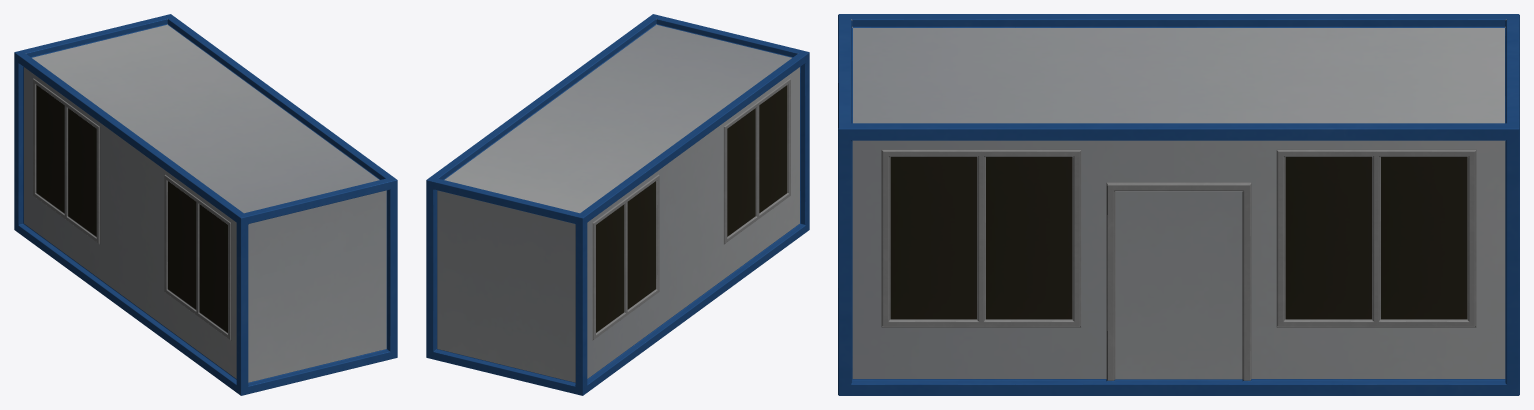
The model's file is hut.glb.
The picture shows the model from 3 angles, left to right: view 1: azimuth 30°, elevation 25°; view 2: azimuth 150°, elevation 25°; view 3: azimuth 270°, elevation 25°; orthographic projection. The views are drawn at different scales.
Visible parts, largest first — view 1: Construction_Site_Container; view 2: Construction_Site_Container; view 3: Construction_Site_Container.
Boxes of the visible parts, x1,y1,x2,y2 form: Construction_Site_Container: (14, 14, 397, 395); Construction_Site_Container: (426, 14, 809, 395); Construction_Site_Container: (838, 14, 1519, 395).
Size of the model in its own units: 2.4 by 2.6 by 6.
Materials: 1 (1 with a texture image).
